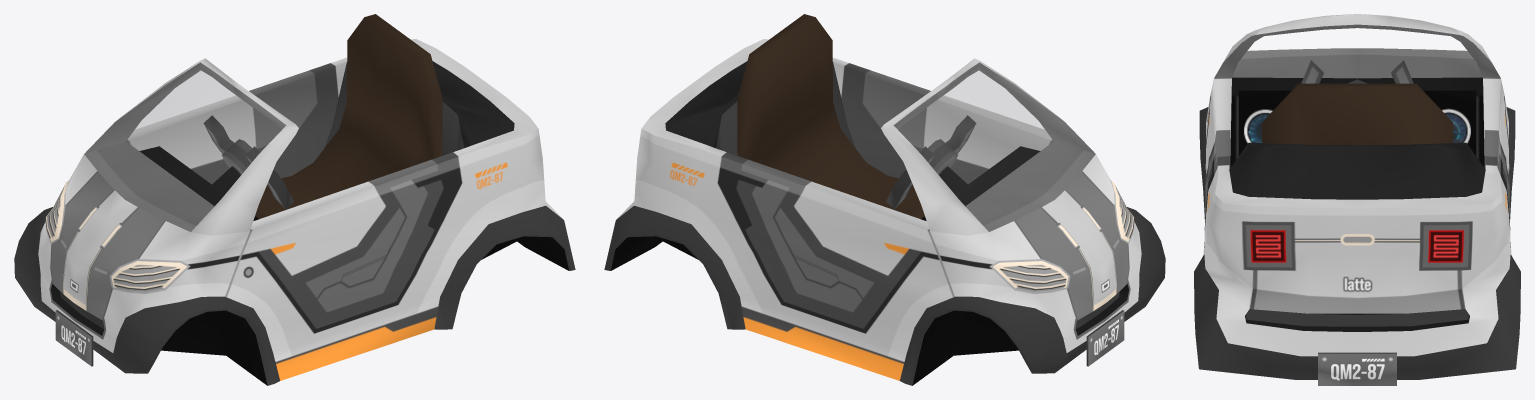
Rendered from car_body.glb.
3 renders of one model, left to right at view 1: azimuth 30°, elevation 25°; view 2: azimuth 150°, elevation 25°; view 3: azimuth 270°, elevation 25°, orthographic. The views are drawn at different scales.
Visible parts, largest first — view 1: car, car_glass; view 2: car, car_glass; view 3: car.
Boxes of the visible parts, x1,y1,x2,y2 form: car: (14, 14, 575, 385); car_glass: (84, 63, 285, 231); car: (604, 14, 1165, 385); car_glass: (894, 63, 1095, 231); car: (1194, 14, 1520, 385).
Bounding box in the file's own units: 3.7 × 2.05 × 2.21.
Materials: 2 (1 with a texture image).
